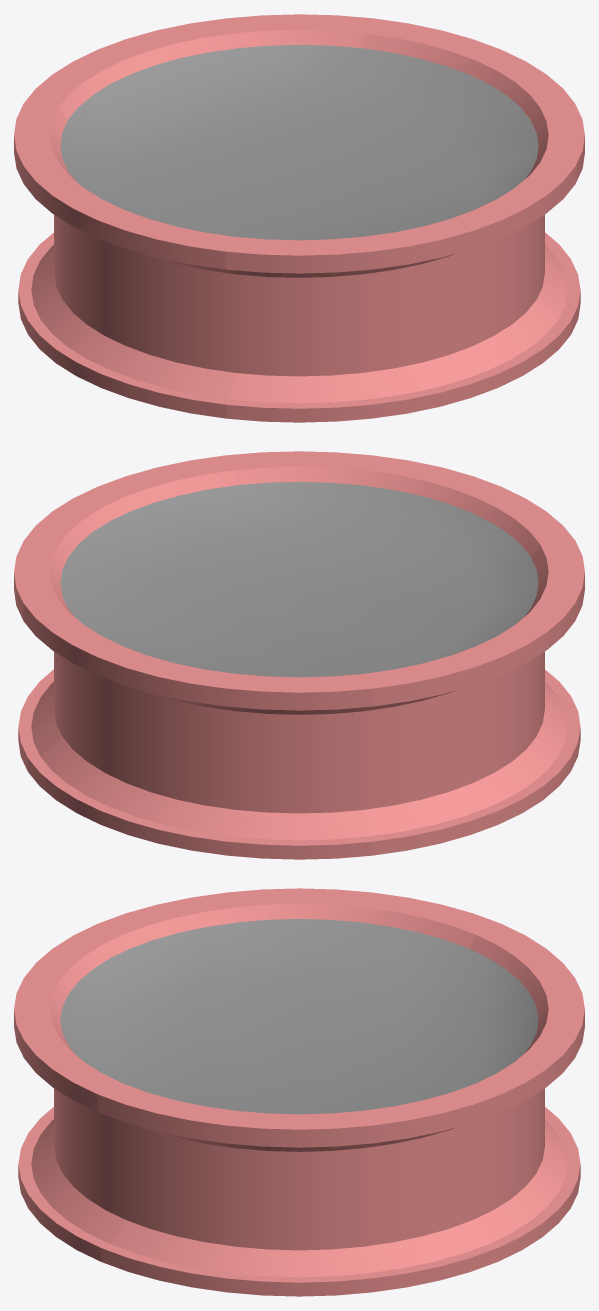
The model's file is S_Envi_Fyz_Fountain_01c.gltf.
3 views of the same model, one above another, from view 1: azimuth 30°, elevation 25°; view 2: azimuth 150°, elevation 25°; view 3: azimuth 270°, elevation 25° (orthographic).
Parts seen in each view (by area): view 1: S_Envi_Fyz_Fountain_01c; view 2: S_Envi_Fyz_Fountain_01c; view 3: S_Envi_Fyz_Fountain_01c.
Part boxes in pixels (left/top/right/bottom): S_Envi_Fyz_Fountain_01c: left=14, top=14, right=584, bottom=422; S_Envi_Fyz_Fountain_01c: left=14, top=451, right=584, bottom=859; S_Envi_Fyz_Fountain_01c: left=14, top=888, right=584, bottom=1296.
Bounding box in the file's own units: 5.56 × 1.81 × 5.56.
